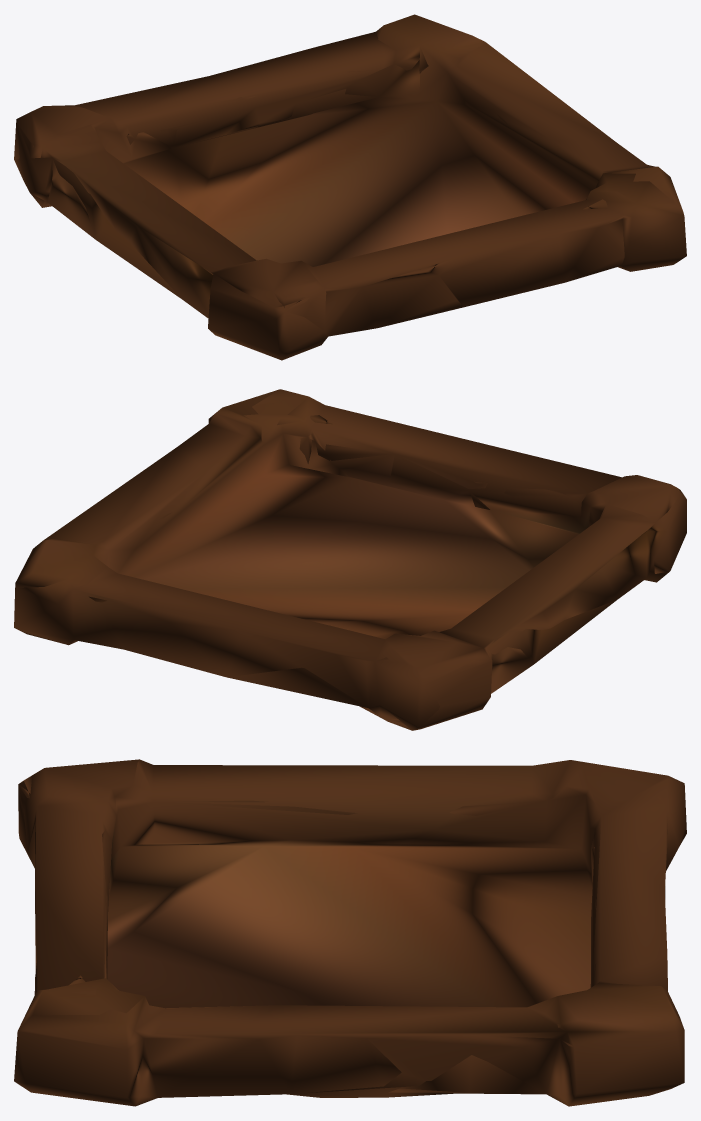
File: gen3d-raft-lod1.glb
3 views of the same model, one above another, from view 1: azimuth 30°, elevation 25°; view 2: azimuth 150°, elevation 25°; view 3: azimuth 270°, elevation 25° (orthographic). The views are drawn at different scales.
Visible parts, largest first — view 1: part_0; view 2: part_0; view 3: part_0.
Part boxes in pixels (x1,y1,x2,y2): part_0: (14,14,686,360); part_0: (14,389,686,730); part_0: (14,759,686,1106).
Size of the model in its own units: 7.29 by 0.9999 by 7.31.
